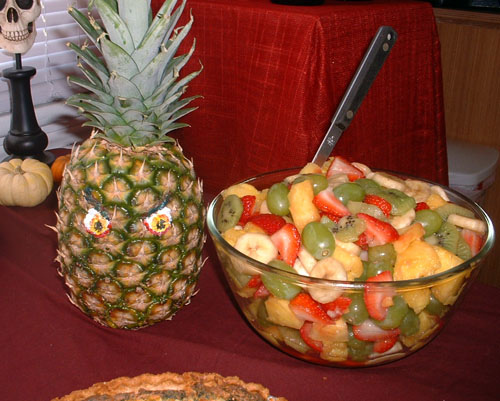pineapple: (54, 1, 208, 332)
